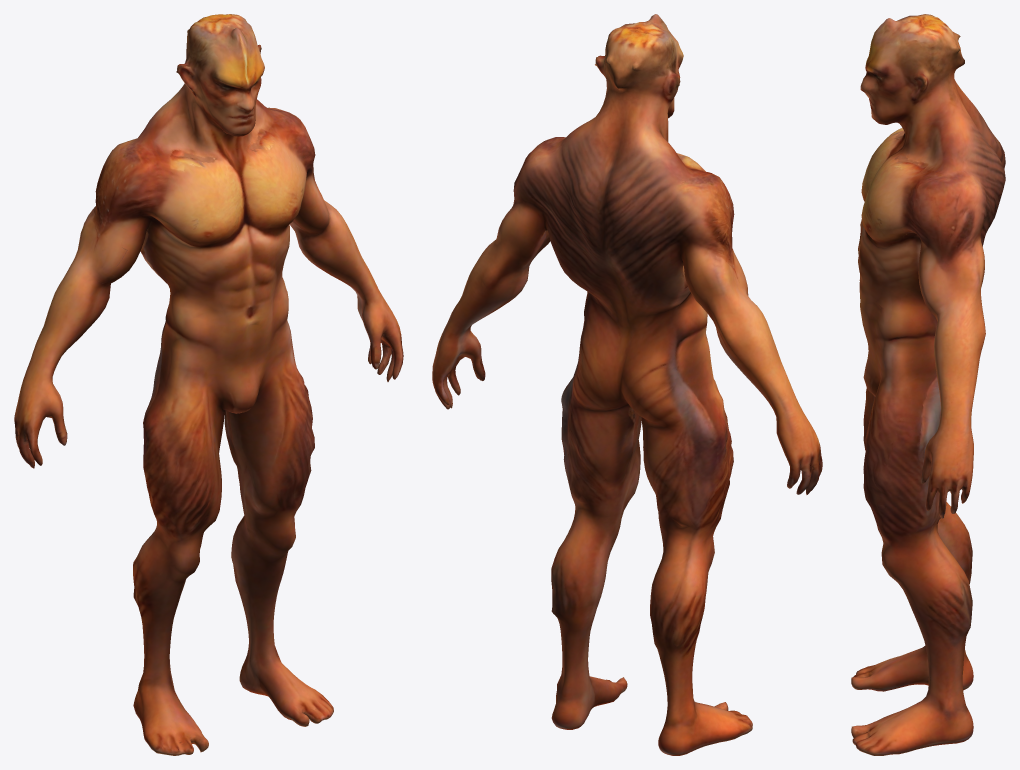
Rendered from raw_meat.glb.
3 renders of one model, left to right at view 1: azimuth 30°, elevation 25°; view 2: azimuth 150°, elevation 25°; view 3: azimuth 270°, elevation 25°, orthographic.
Parts seen in each view (by area): view 1: Object_4; view 2: Object_4; view 3: Object_4.
Part boxes in pixels (bbox=[...]): Object_4: bbox=[14, 14, 403, 755]; Object_4: bbox=[432, 14, 822, 755]; Object_4: bbox=[851, 14, 1005, 755].
Size of the model in its own units: 1.13 by 1.98 by 0.3977.
Materials: 1 (1 with a texture image).
